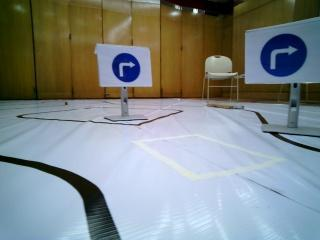right: (248, 31, 320, 86), (102, 45, 153, 84)
